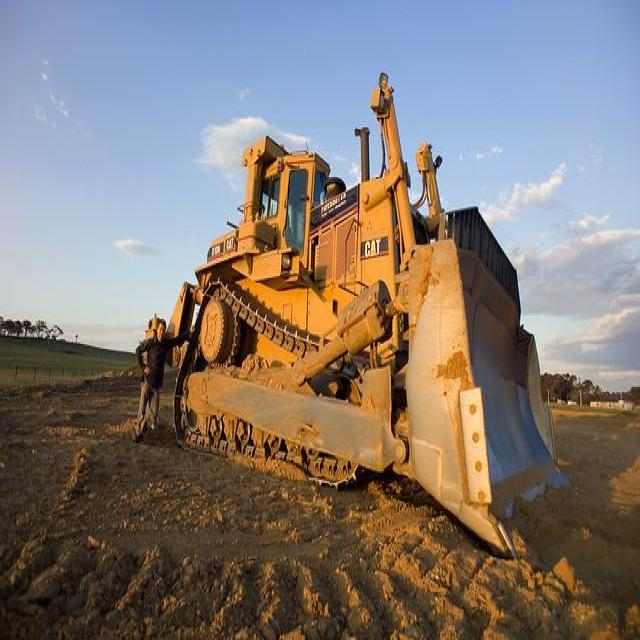buldozerpayloadergrader: (138, 76, 580, 579)
